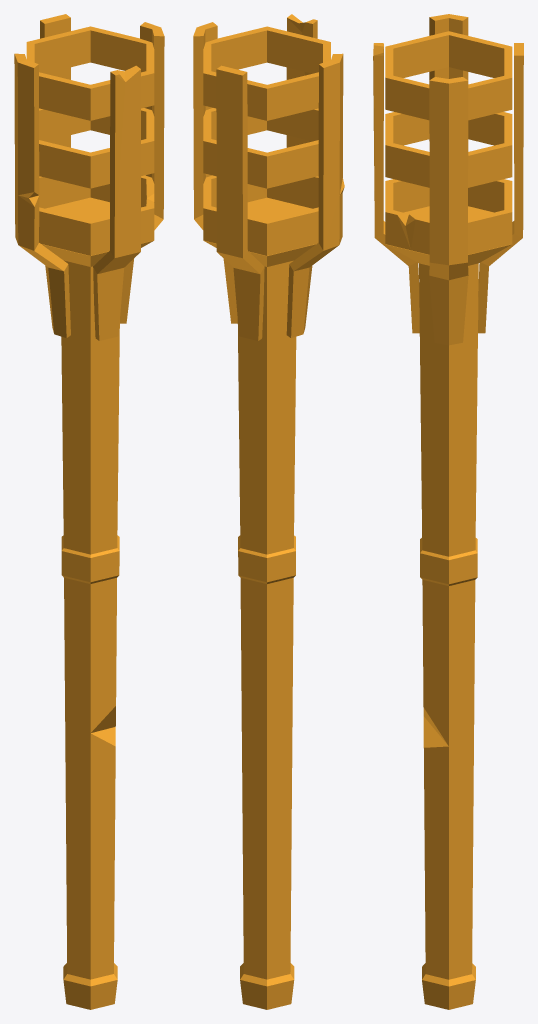
The model's file is SM_Torch_C_Fantasy.fbx.
3 views of the same model, side by side, from view 1: azimuth 30°, elevation 25°; view 2: azimuth 150°, elevation 25°; view 3: azimuth 270°, elevation 25° (orthographic).
Parts seen in each view (by area): view 1: torch-c-fantasy; view 2: torch-c-fantasy; view 3: torch-c-fantasy.
Boxes of the visible parts, <box> form: torch-c-fantasy: <box>14,14,164,1009</box>; torch-c-fantasy: <box>193,14,344,1009</box>; torch-c-fantasy: <box>373,14,523,1009</box>.
Size of the model in its own units: 0.1006 by 0.6441 by 0.0921.
